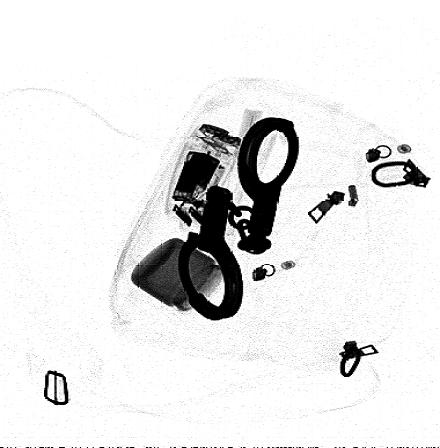HandCuffs: (177, 117, 299, 320)
